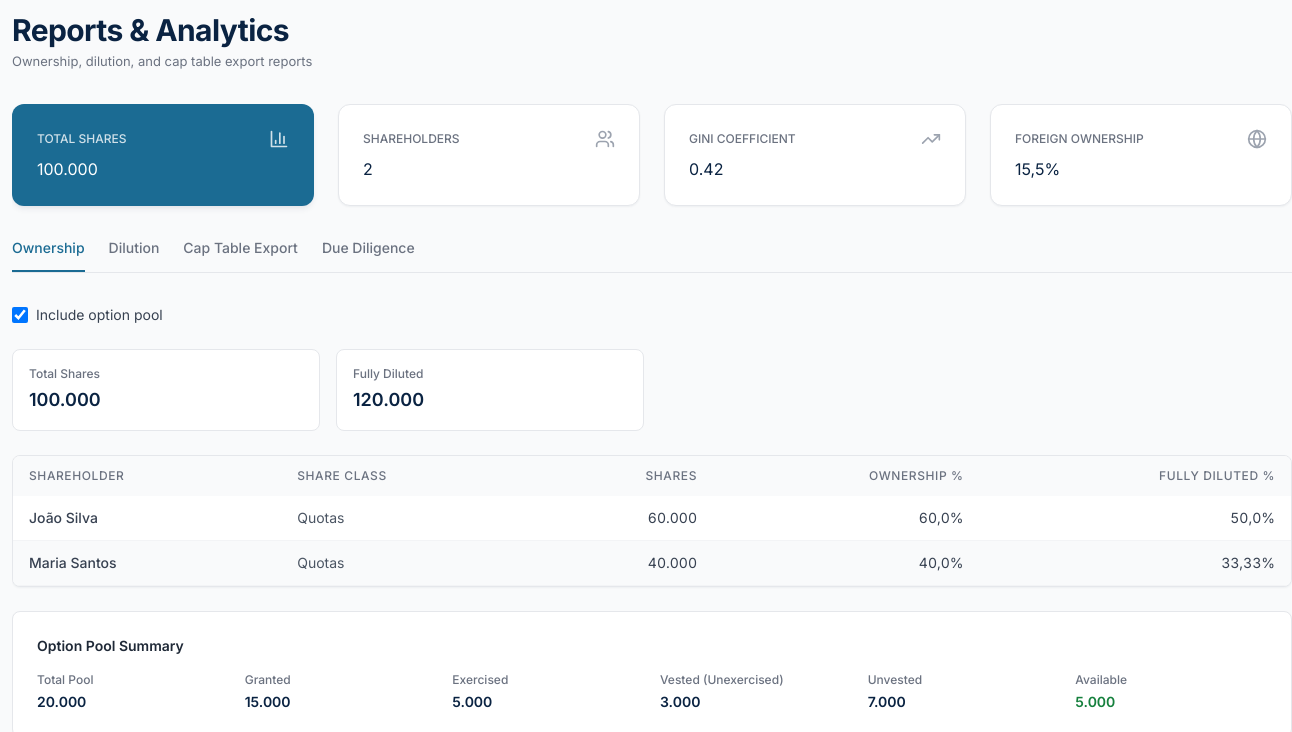
Test: ReportsPage › Tab Navigation › switches to export tab on click
Click the button "Cap Table Export" at (241, 254), box [183, 238, 298, 272]
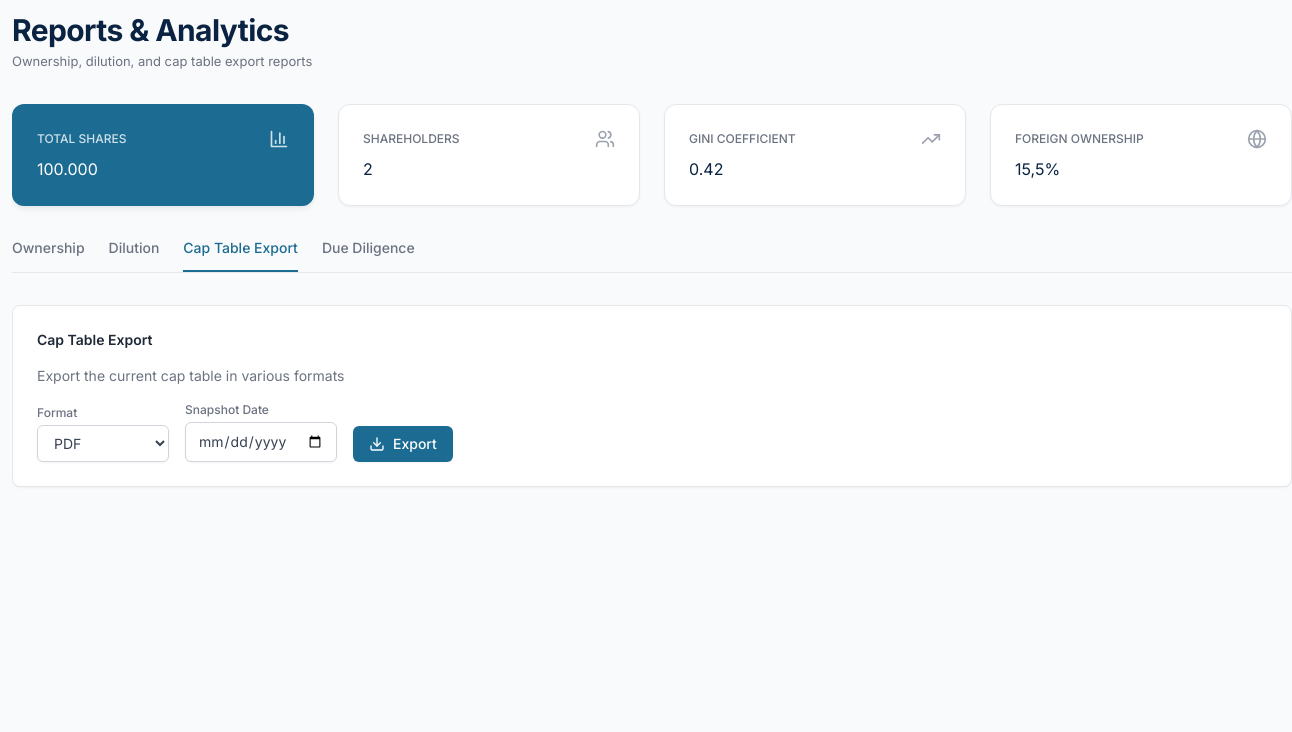
Now the text "Export the current cap table in various formats" is shown, box [37, 366, 344, 384]
